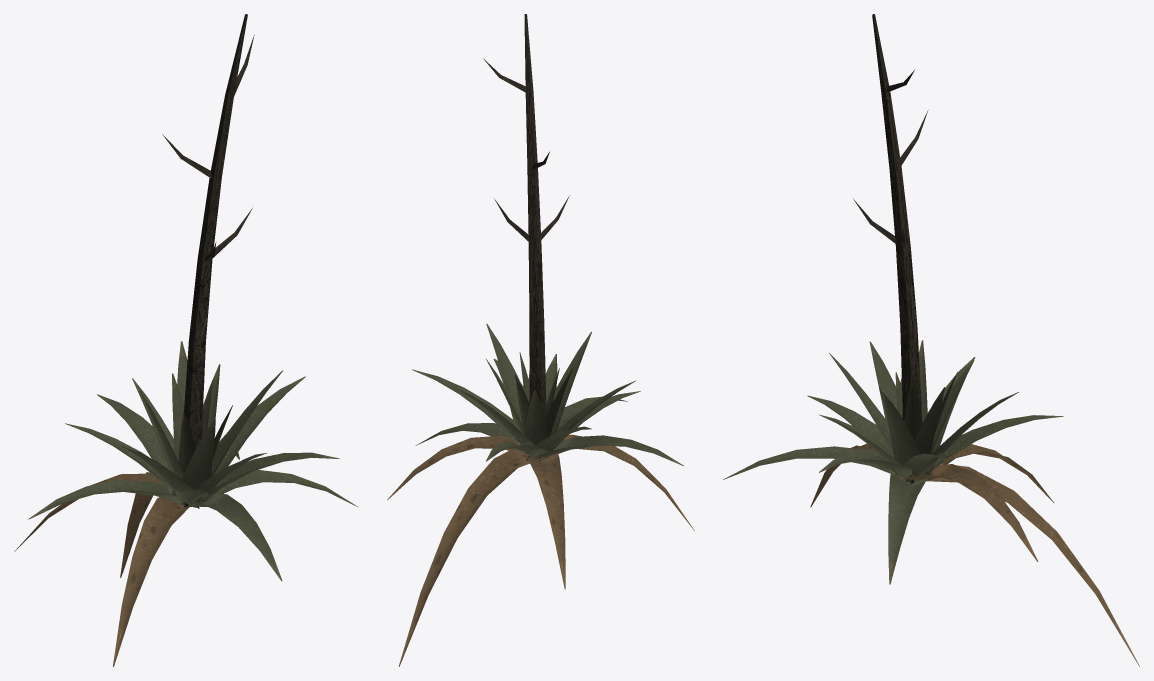
File: plant_agave_a_v5.glb
The picture shows the model from 3 angles, left to right: view 1: azimuth 30°, elevation 25°; view 2: azimuth 150°, elevation 25°; view 3: azimuth 270°, elevation 25°; orthographic projection. The views are drawn at different scales.
Parts seen in each view (by area): view 1: plant_agave_a_v5; view 2: plant_agave_a_v5; view 3: plant_agave_a_v5.
Part boxes in pixels (left/top/right/bottom): plant_agave_a_v5: left=14, top=14, right=357, bottom=666; plant_agave_a_v5: left=387, top=14, right=694, bottom=666; plant_agave_a_v5: left=723, top=14, right=1139, bottom=666.
Bounding box in the file's own units: 2.29 × 4.53 × 2.64.
Materials: 1 (1 with a texture image).
